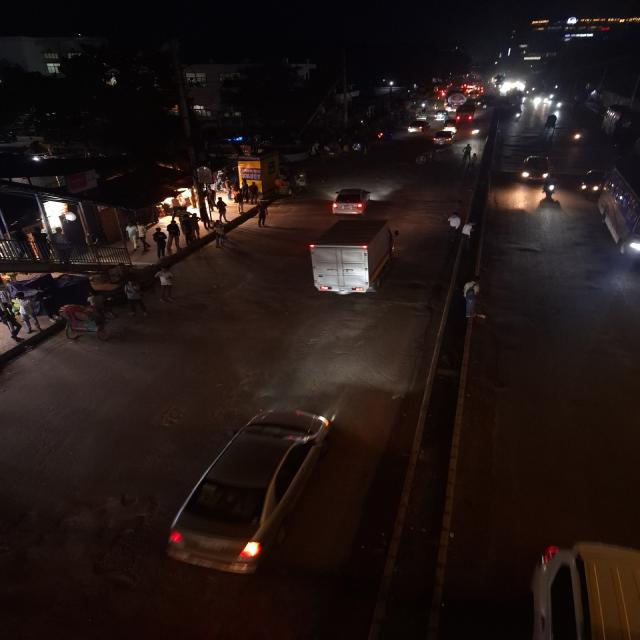bus: (600, 96, 640, 272)
car: (156, 397, 352, 580), (516, 534, 640, 640), (327, 186, 375, 216), (516, 153, 553, 184), (431, 130, 457, 148), (406, 118, 430, 134)
cng: (578, 165, 607, 199)
motorcycle: (570, 126, 586, 146)
pedestrian: (118, 280, 151, 318), (459, 274, 484, 318), (153, 268, 178, 302), (165, 218, 186, 250), (442, 215, 466, 243), (212, 224, 234, 251), (458, 140, 476, 171), (253, 200, 270, 232), (212, 197, 230, 221), (462, 218, 475, 245)
rickshaw: (55, 302, 116, 342)
truck: (300, 215, 400, 301), (455, 103, 479, 124)
